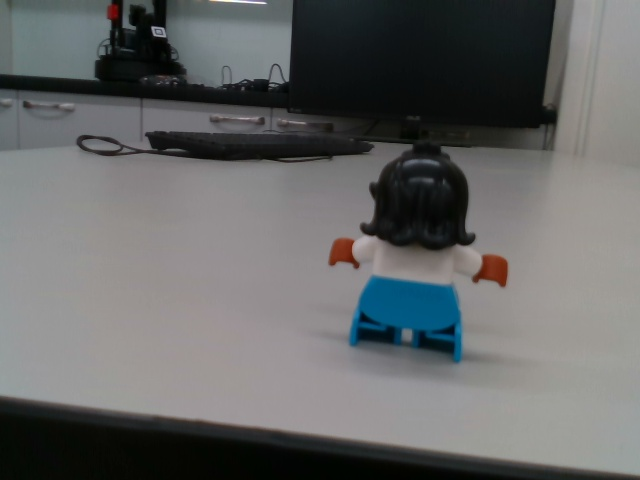people: (327, 141, 510, 365)
